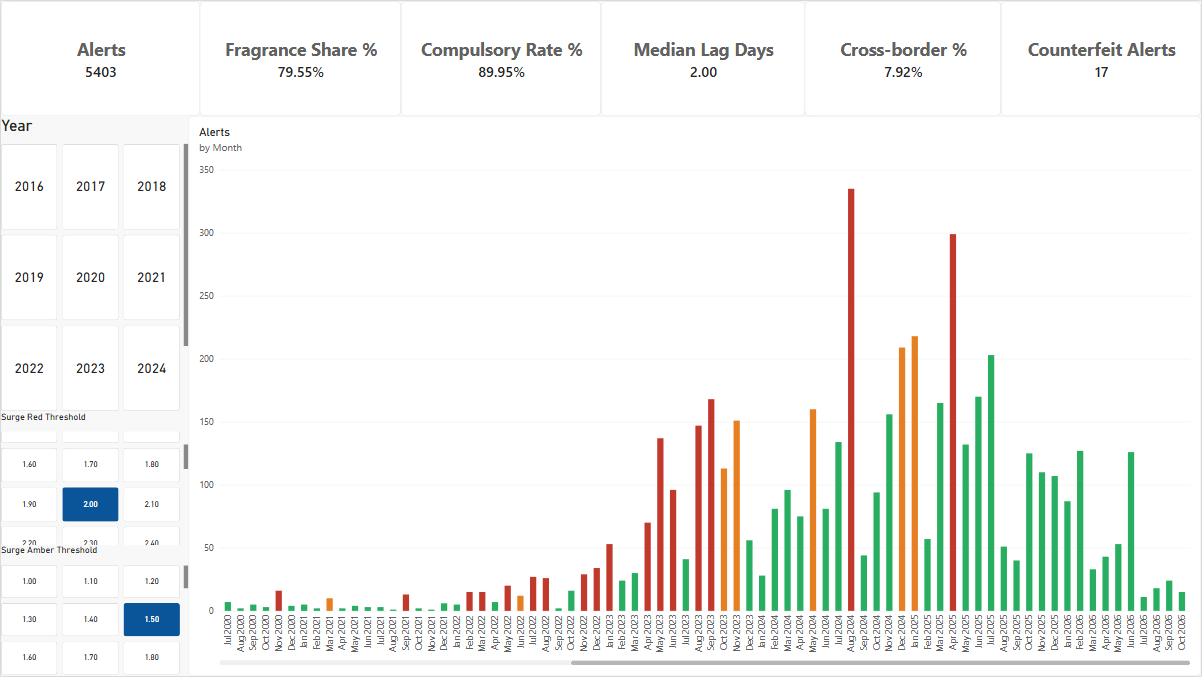

This screenshot's page, from the dashboard's own definition file:
{"tool":"powerbi","page":{"name":"KRI Overview","canvas":[1920,1080],"ordinal":0},"visuals":[{"type":"cardVisual","fields":{"Data":["fAlerts.Alerts"]},"box":[0,0,318,184],"z":0},{"type":"cardVisual","fields":{"Data":["fAlerts.Median Lag Days"]},"box":[960,0,326,184],"z":1000},{"type":"cardVisual","fields":{"Data":["fAlerts.Compulsory Rate %"]},"box":[640,0,320,184],"z":2000},{"type":"cardVisual","fields":{"Data":["fAlerts.Fragrance Share %"]},"box":[318,0,322,184],"z":3000},{"type":"cardVisual","fields":{"Data":["fAlerts.Cross-border %"]},"box":[1286,0,314,184],"z":4000},{"type":"cardVisual","fields":{"Data":["fAlerts.Counterfeit Alerts"]},"box":[1600,0,320,184],"z":5000},{"type":"clusteredColumnChart","fields":{"Category":["dDate.Month"],"Y":["fAlerts.Alerts"]},"box":[300,184,1620,896],"z":6000},{"type":"advancedSlicerVisual","fields":{"Values":["dDate.Year"]},"box":[0,184,300,472],"z":7000},{"type":"advancedSlicerVisual","fields":{"Values":["Surge Red Threshold.Surge Red Threshold"]},"box":[0,656,300,214],"z":7001},{"type":"advancedSlicerVisual","fields":{"Values":["Surge Amber Threshold.Surge Amber Threshold"]},"box":[0,870,300,210],"z":7002}]}

Visuals, with their boxes in screenshot pixels (x1, y1, x2, y2), scaled from the page's 1920x1080 canvas onto the 1202x677 screenshot:
cardVisual - fAlerts.Alerts: Rect(0, 0, 199, 115)
cardVisual - fAlerts.Median Lag Days: Rect(601, 0, 805, 115)
cardVisual - fAlerts.Compulsory Rate %: Rect(401, 0, 601, 115)
cardVisual - fAlerts.Fragrance Share %: Rect(199, 0, 401, 115)
cardVisual - fAlerts.Cross-border %: Rect(805, 0, 1002, 115)
cardVisual - fAlerts.Counterfeit Alerts: Rect(1002, 0, 1201, 115)
clusteredColumnChart - dDate.Month x fAlerts.Alerts: Rect(188, 115, 1201, 676)
advancedSlicerVisual - dDate.Year: Rect(0, 115, 188, 411)
advancedSlicerVisual - Surge Red Threshold.Surge Red Threshold: Rect(0, 411, 188, 545)
advancedSlicerVisual - Surge Amber Threshold.Surge Amber Threshold: Rect(0, 545, 188, 676)
